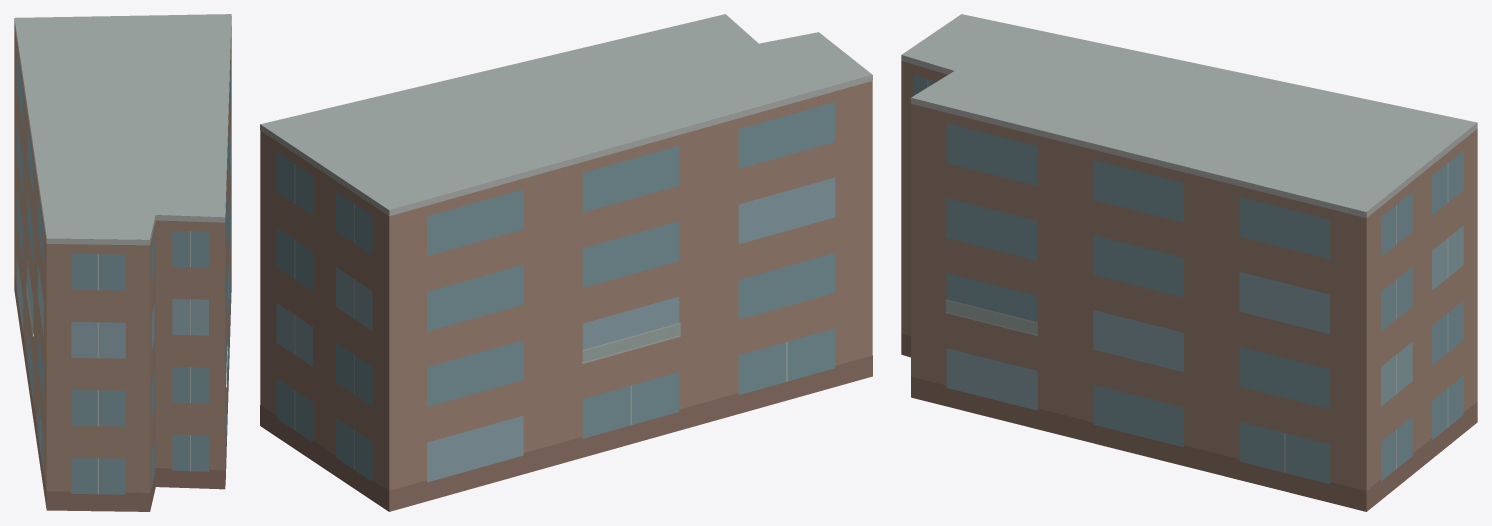
File: survey-upis-32732221.glb
The picture shows the model from 3 angles, left to right: view 1: azimuth 30°, elevation 25°; view 2: azimuth 150°, elevation 25°; view 3: azimuth 270°, elevation 25°; orthographic projection. The views are drawn at different scales.
Parts seen in each view (by area): view 1: survey-upis-32732221.tmp; view 2: survey-upis-32732221.tmp; view 3: survey-upis-32732221.tmp.
Part boxes in pixels (x1,y1,x2,y2): survey-upis-32732221.tmp: (14, 14, 231, 511); survey-upis-32732221.tmp: (260, 14, 872, 511); survey-upis-32732221.tmp: (901, 14, 1477, 511).
Size of the model in its own units: 17.31 by 12.2 by 21.27.
